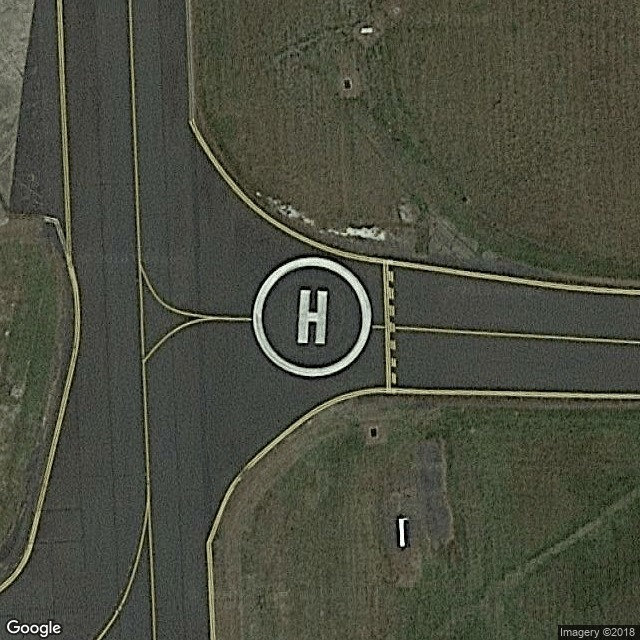heliport: (290, 282, 332, 348)
